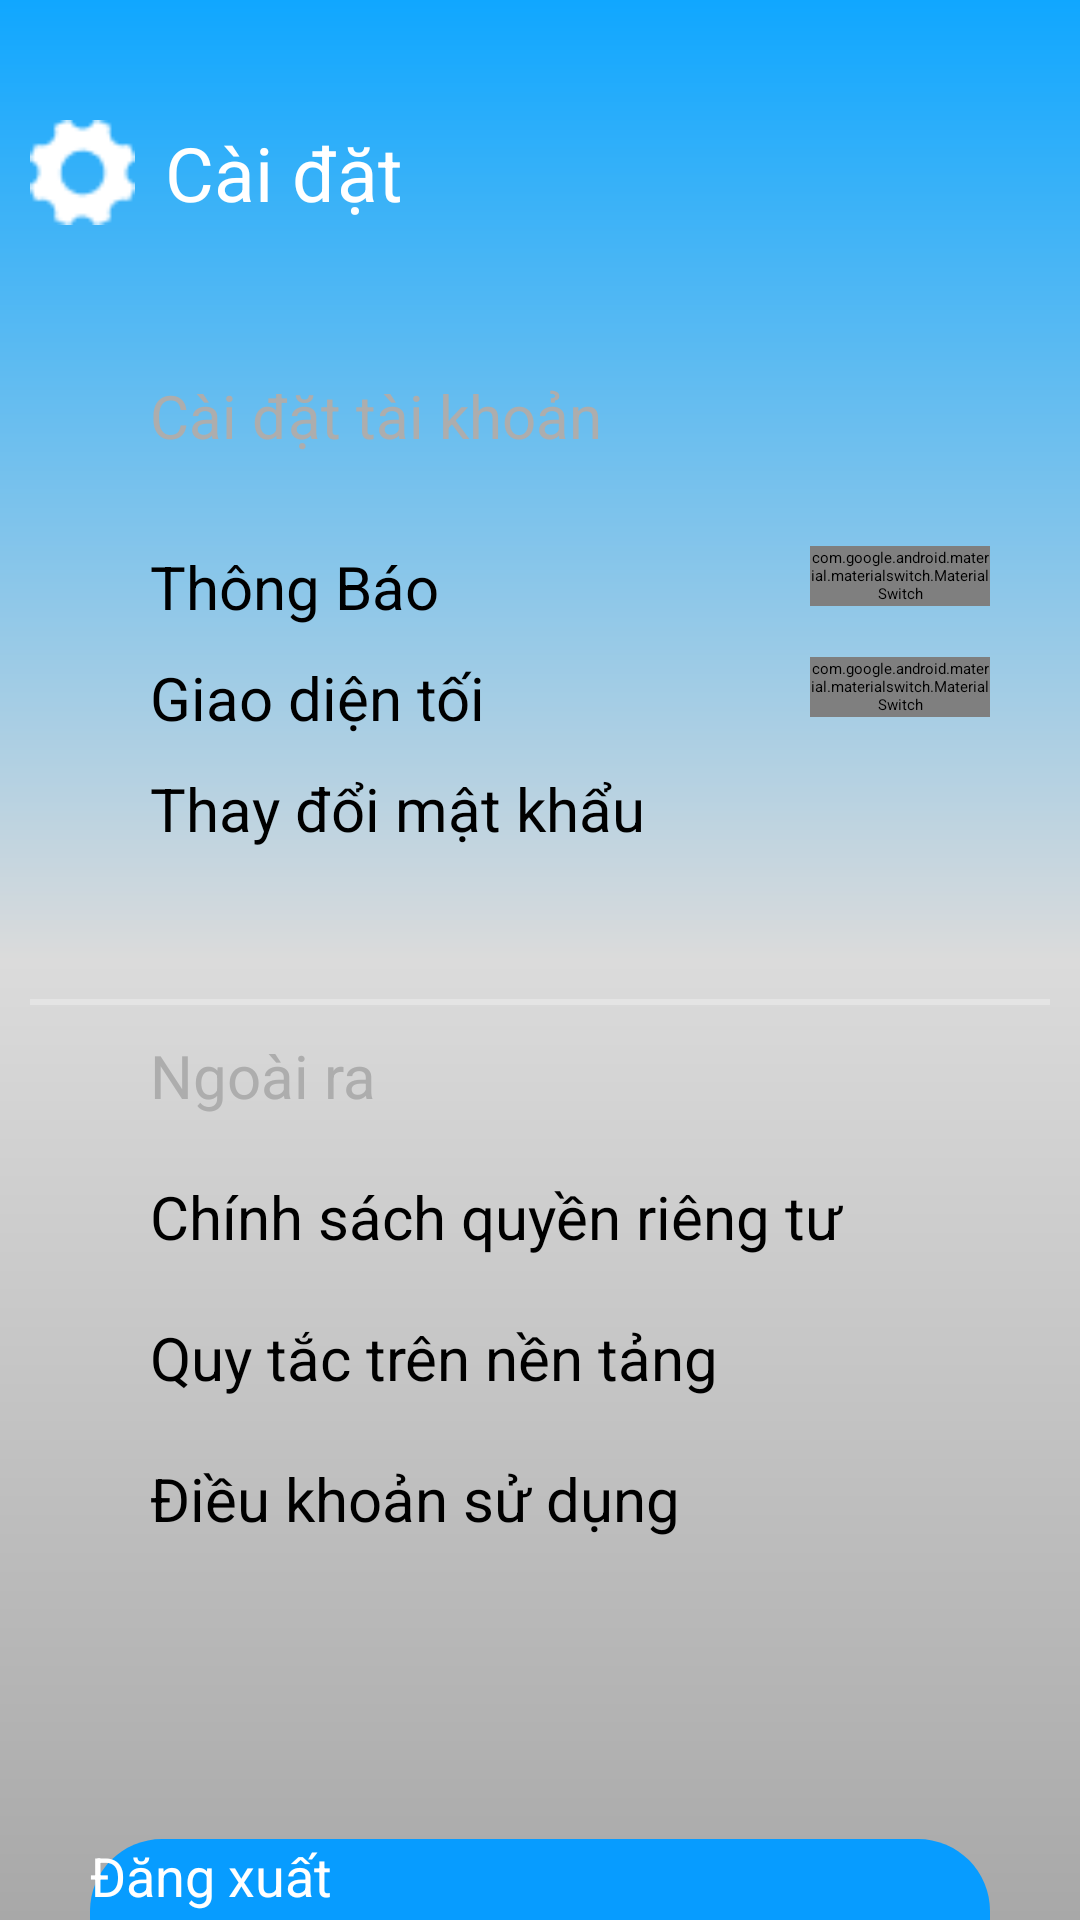

Where to tap for icons on this 1080w x 1920h app screen, as (x,y):
setting: (82,172)
